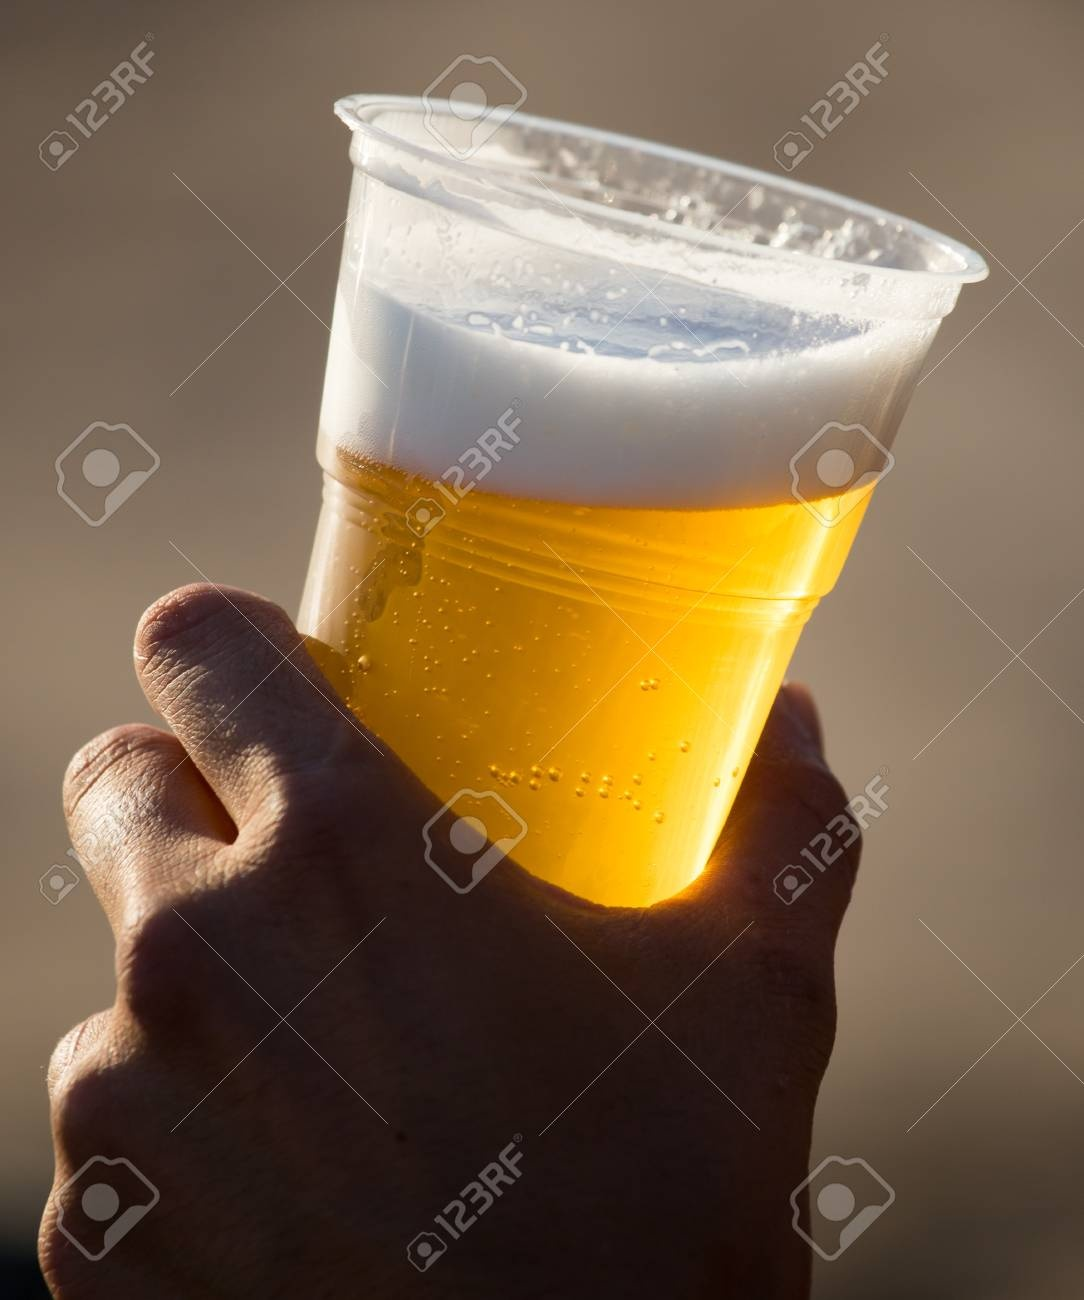glassBeer: (309, 124, 963, 1024)
